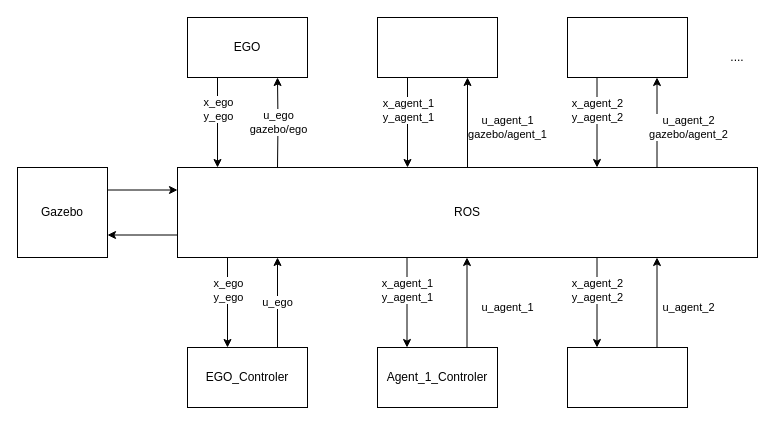
Some shapes in this 775 by 425 pixel diagram are drawn without their labels. The shapes that lost their labels are listed below. From the top down, each one's box as (x1, y1, x2, y2) in pixels, then its label:
(376, 16, 498, 78): Agent_1
(566, 16, 688, 78): Agent_2
(566, 346, 688, 408): Agent_2_Controler
